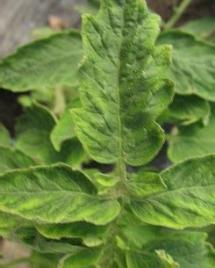Tomato leaf yellow virus: (69, 0, 167, 172), (0, 165, 120, 236), (129, 153, 215, 239), (0, 28, 88, 107), (135, 24, 215, 102)
